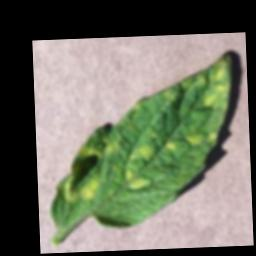Leaf_Mold: (186, 52, 232, 112), (61, 172, 98, 201), (77, 139, 118, 158), (123, 166, 148, 191), (128, 142, 155, 163), (185, 129, 217, 145), (162, 140, 177, 151)
